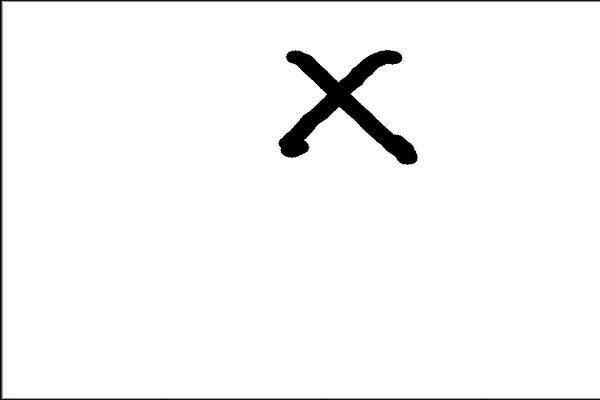X: (255, 32, 434, 176)
